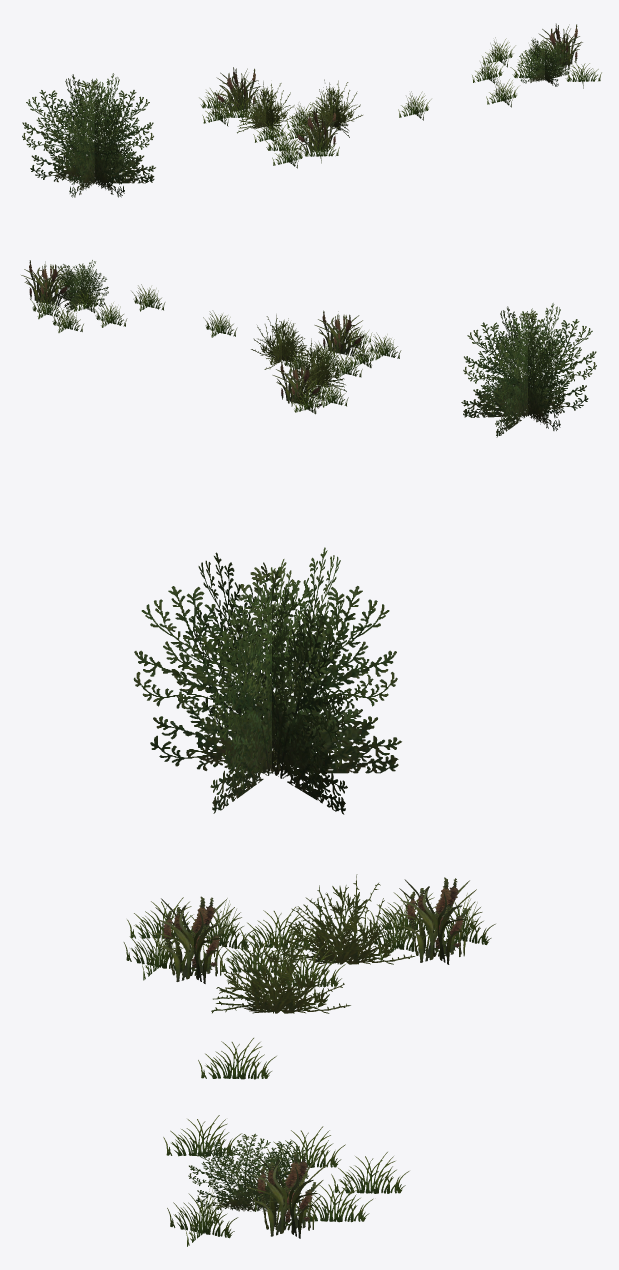
File: s7_fight_pve_grassground.FBX
3 renders of one model, top to bottom at view 1: azimuth 30°, elevation 25°; view 2: azimuth 150°, elevation 25°; view 3: azimuth 270°, elevation 25°, orthographic. The views are drawn at different scales.
Visible parts, largest first — view 1: s7_pvegrassC, s7_pvegrassB, s7_pvegrassA; view 2: s7_pvegrassC, s7_pvegrassB, s7_pvegrassA; view 3: s7_pvegrassC, s7_pvegrassB, s7_pvegrassA.
Boxes of the visible parts, bbox=[...] form: s7_pvegrassC: bbox=[22, 73, 155, 197]; s7_pvegrassB: bbox=[199, 67, 431, 168]; s7_pvegrassA: bbox=[472, 23, 601, 107]; s7_pvegrassC: bbox=[461, 303, 596, 437]; s7_pvegrassB: bbox=[203, 310, 401, 414]; s7_pvegrassA: bbox=[21, 260, 165, 332]; s7_pvegrassC: bbox=[133, 547, 401, 814]; s7_pvegrassB: bbox=[123, 874, 495, 1079]; s7_pvegrassA: bbox=[163, 1115, 409, 1246].
Bounding box in the file's own units: 338 × 70.91 × 102.
